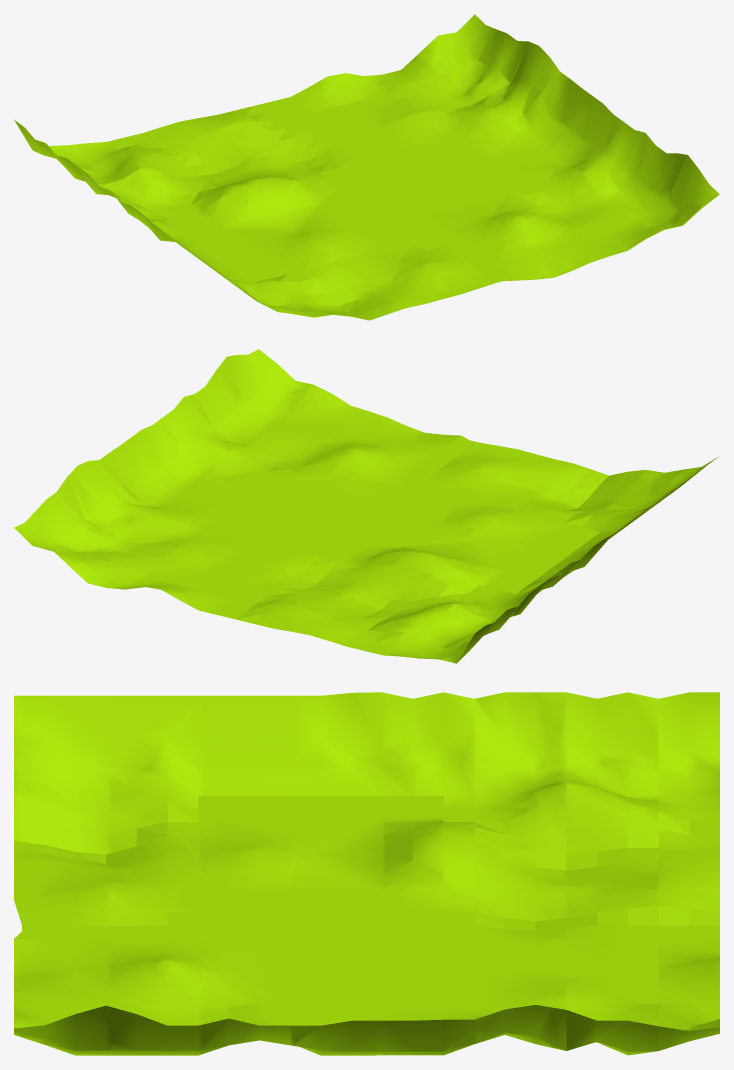
File: ecommons-colldier3.fbx
The picture shows the model from 3 angles, top to bottom: view 1: azimuth 30°, elevation 25°; view 2: azimuth 150°, elevation 25°; view 3: azimuth 270°, elevation 25°; orthographic projection. The views are drawn at different scales.
Parts seen in each view (by area): view 1: CollisionEC3; view 2: CollisionEC3; view 3: CollisionEC3.
Boxes of the visible parts, bbox=[...] form: CollisionEC3: bbox=[14, 14, 719, 320]; CollisionEC3: bbox=[14, 349, 717, 663]; CollisionEC3: bbox=[14, 692, 719, 1055].
Size of the model in its own units: 2501 by 346 by 2299.
